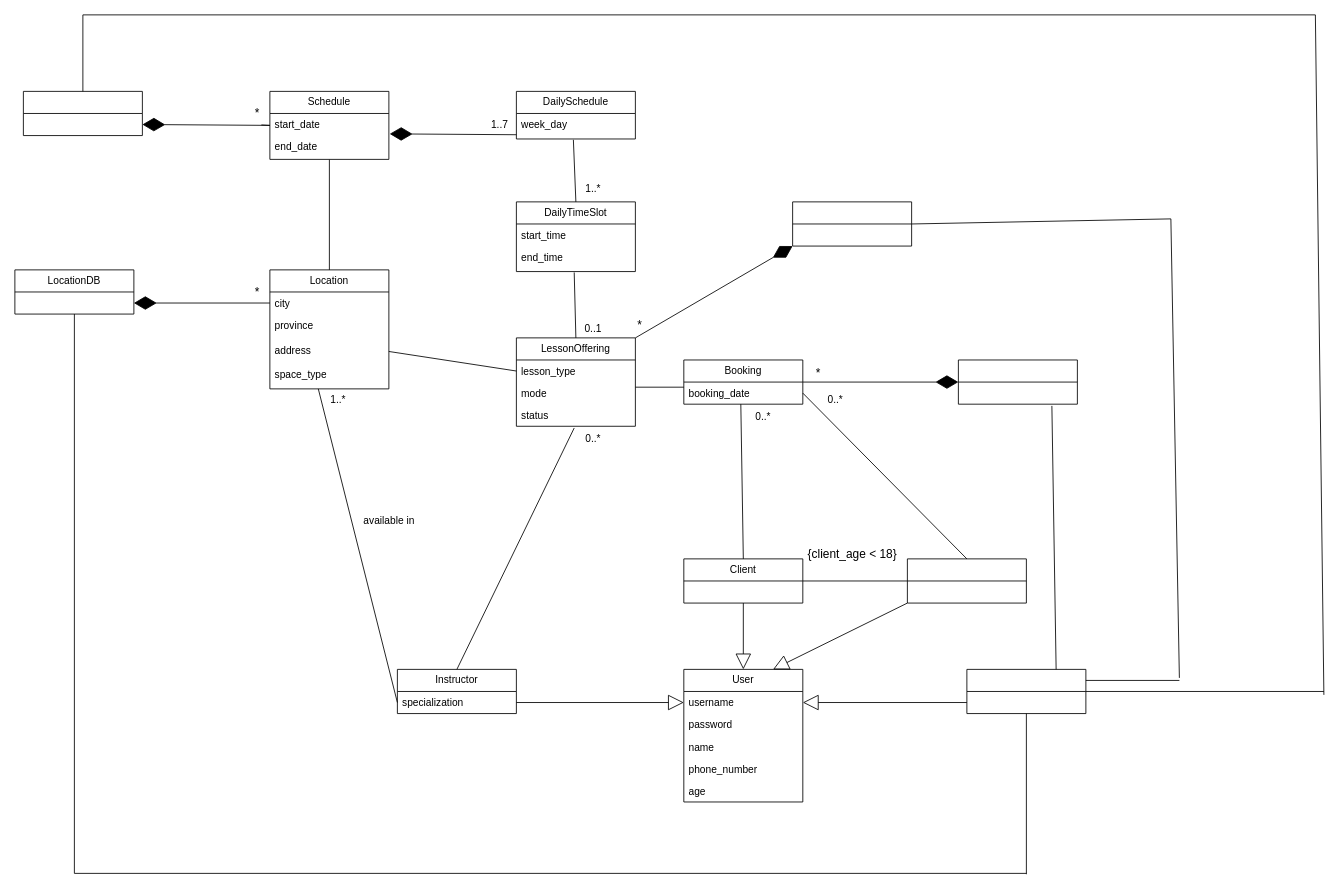
The diagram is 1340 pixels wide and 890 high, and some of its shapes have lost their labels. The shapes that lost their labels are listed below. From the top down, each one's centre as x and y in pixels, then its label:
pixel 82 113: ScheduleDB
pixel 852 223: LessonOfferingDB
pixel 1017 381: BookingDB
pixel 966 580: Guardian
pixel 1026 691: Administrator
